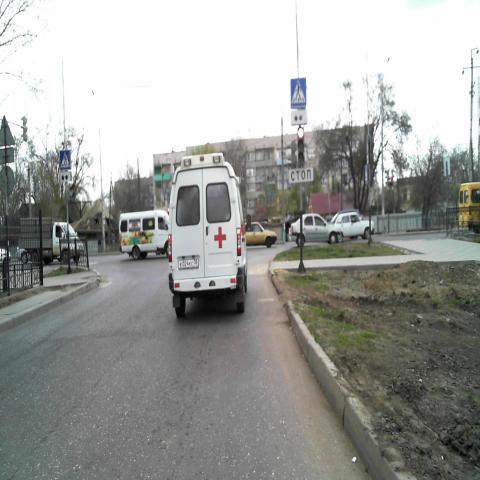8_15: (292, 110, 305, 126)
